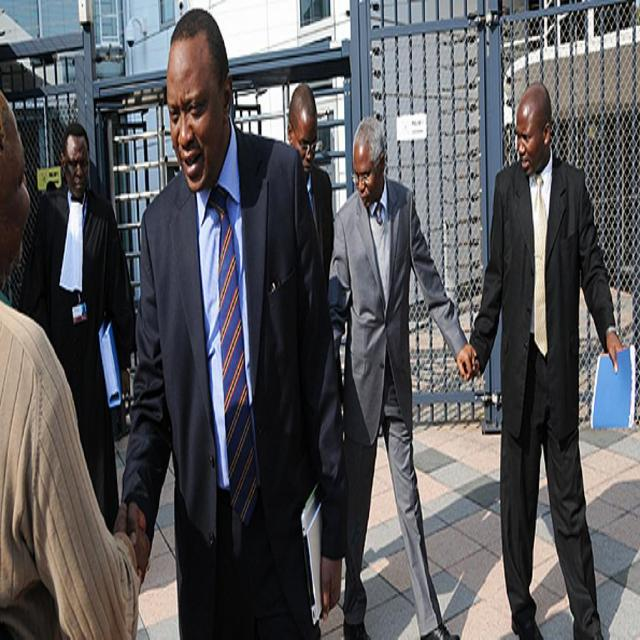nomask: (166, 56, 222, 192), (1, 108, 29, 276), (292, 112, 317, 180), (516, 111, 542, 174), (353, 144, 379, 205), (66, 140, 88, 199)
